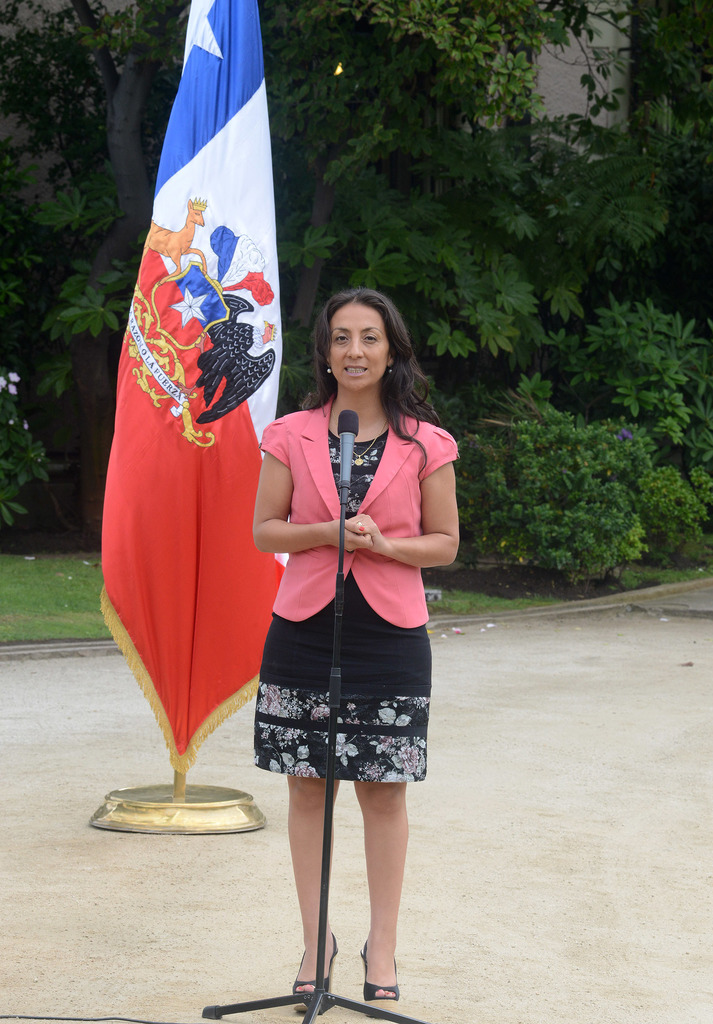Footwear: (290, 930, 340, 1015)
